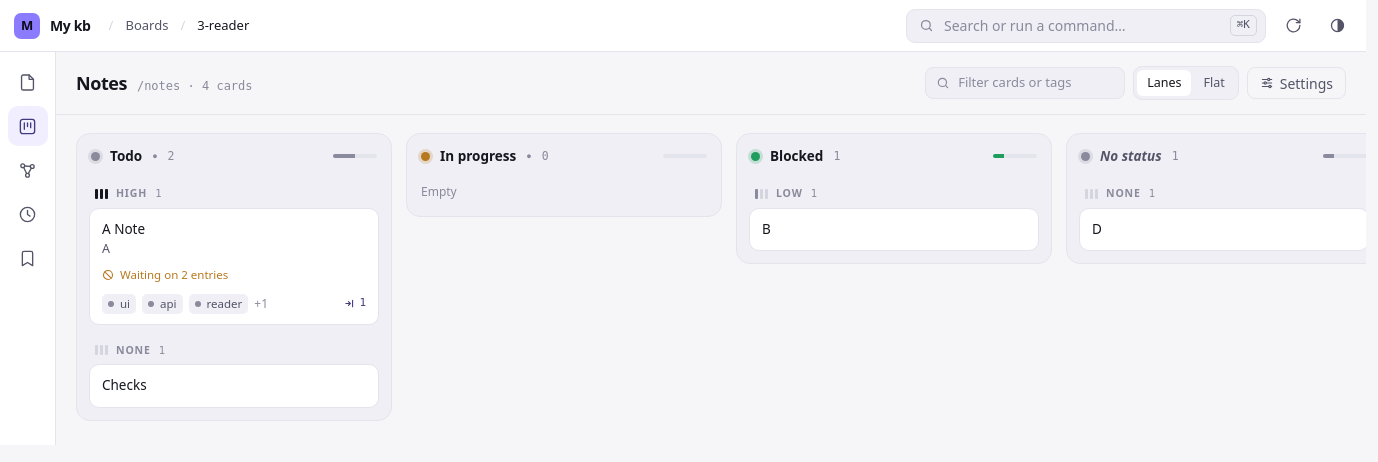
Scenario: opening the section leaves the board you are on alone
Click the button named "Boards" at x=28, y=126, box [8, 106, 48, 146]
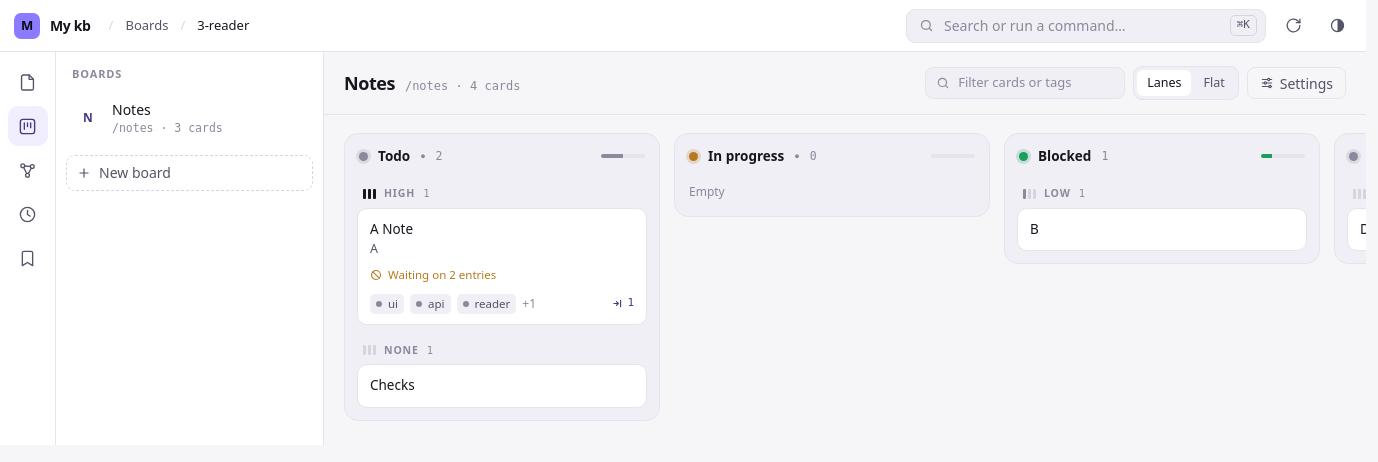
expect the link "N Notes /notes · 3 cards" is shown: met, box [74, 100, 223, 134]
